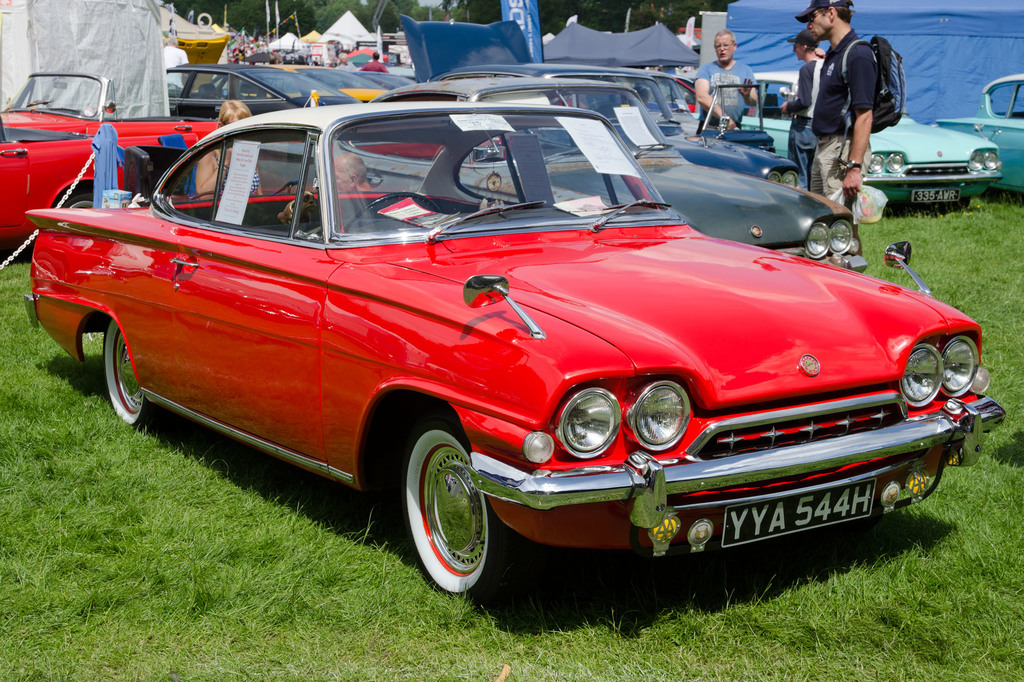mobil: (22, 126, 1004, 604)
